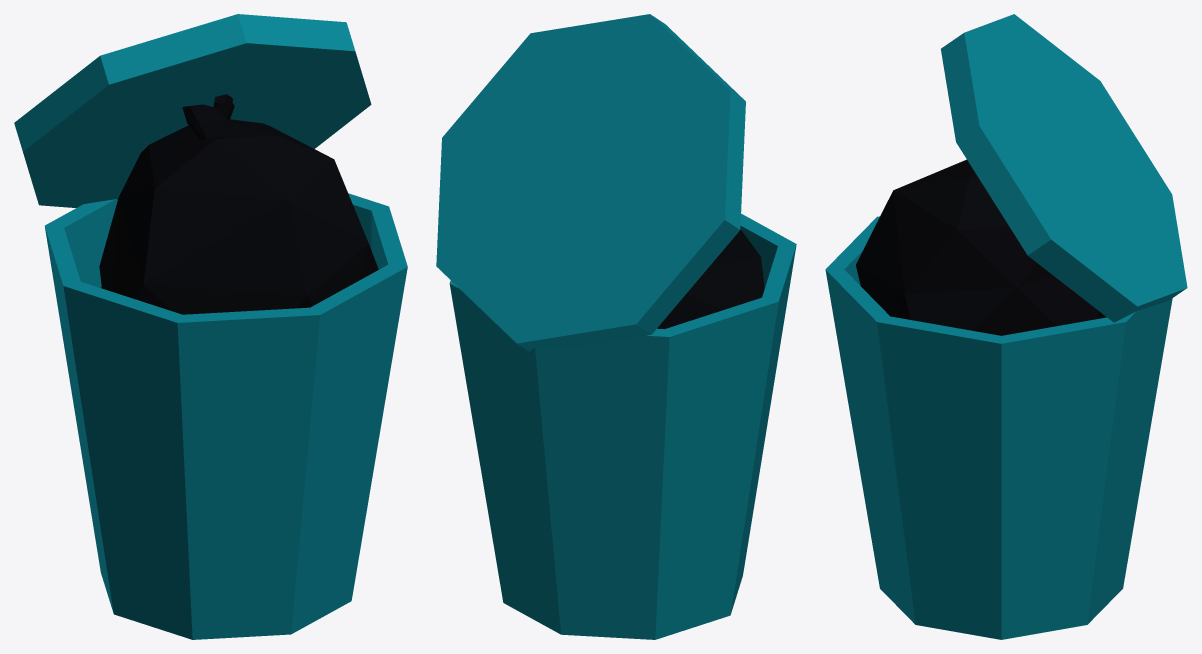
Rendered from obstacle_boost.glb.
3 renders of one model, left to right at view 1: azimuth 30°, elevation 25°; view 2: azimuth 150°, elevation 25°; view 3: azimuth 270°, elevation 25°, orthographic. The views are drawn at different scales.
Visible parts, largest first — view 1: Cylinder.001; view 2: Cylinder.001; view 3: Cylinder.001.
Boxes of the visible parts, bbox=[...] form: Cylinder.001: bbox=[14, 14, 407, 639]; Cylinder.001: bbox=[436, 14, 796, 639]; Cylinder.001: bbox=[825, 14, 1187, 639].
Bounding box in the file's own units: 0.9836 × 1.7 × 1.01.
